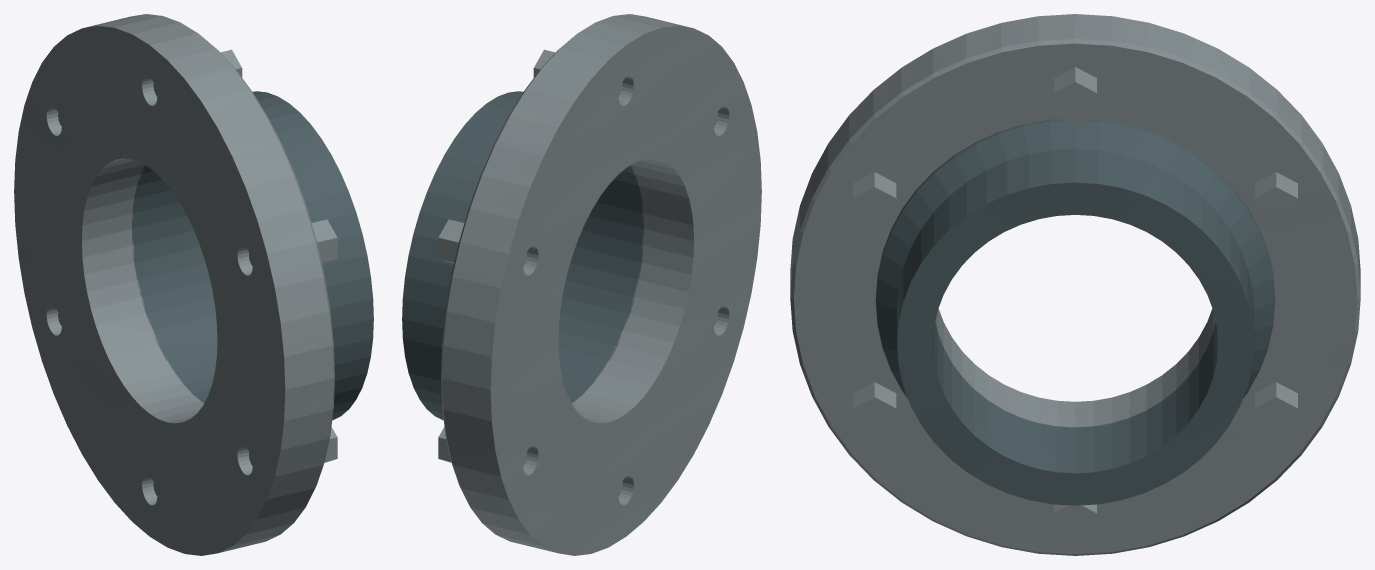
The model's file is utility_flange_near_comparison.glb.
The picture shows the model from 3 angles, left to right: view 1: azimuth 30°, elevation 25°; view 2: azimuth 150°, elevation 25°; view 3: azimuth 270°, elevation 25°; orthographic projection. The views are drawn at different scales.
Visible parts, largest first — view 1: IMMUTABLE_NEAR_INLET_1, IMMUTABLE_NEAR_INLET_0; view 2: IMMUTABLE_NEAR_INLET_1, IMMUTABLE_NEAR_INLET_0; view 3: IMMUTABLE_NEAR_INLET_1, IMMUTABLE_NEAR_INLET_0.
Boxes of the visible parts, left/top/right/bottom form: IMMUTABLE_NEAR_INLET_1: left=14, top=14, right=337, bottom=555; IMMUTABLE_NEAR_INLET_0: left=131, top=91, right=373, bottom=420; IMMUTABLE_NEAR_INLET_1: left=438, top=14, right=761, bottom=555; IMMUTABLE_NEAR_INLET_0: left=402, top=91, right=644, bottom=420; IMMUTABLE_NEAR_INLET_1: left=790, top=14, right=1360, bottom=555; IMMUTABLE_NEAR_INLET_0: left=875, top=119, right=1275, bottom=505.
Bounding box in the file's own units: 0.095 × 0.32 × 0.32.
Materials: 2 (2 with a texture image).
